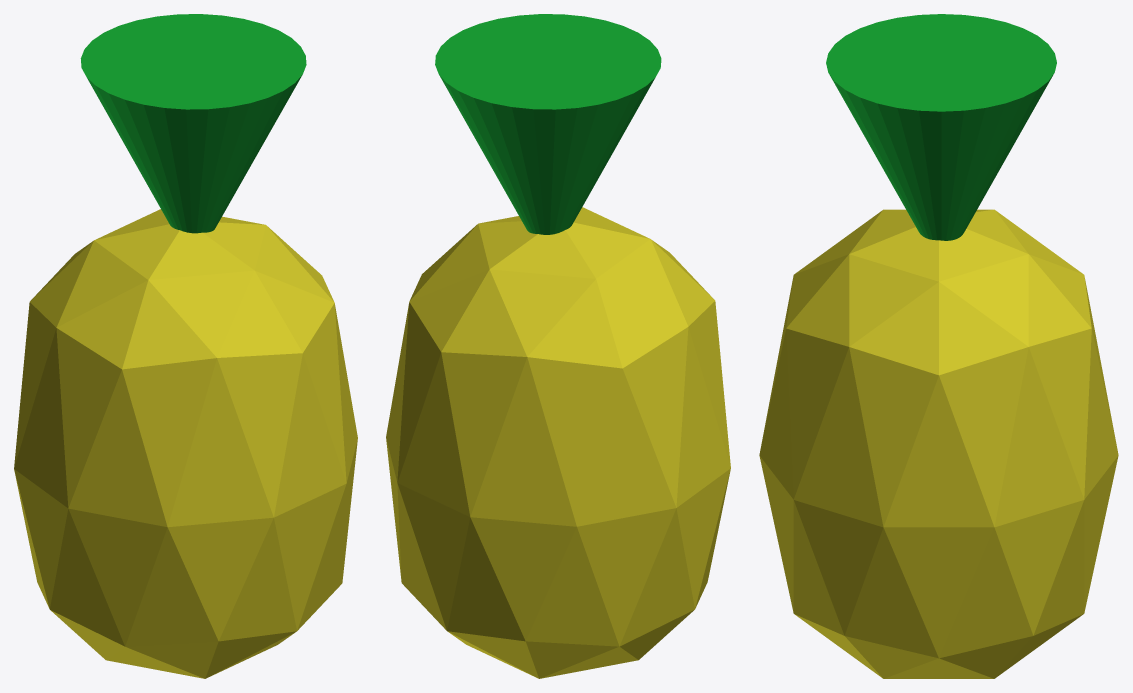
The model's file is piña.fbx.
3 views of the same model, side by side, from view 1: azimuth 30°, elevation 25°; view 2: azimuth 150°, elevation 25°; view 3: azimuth 270°, elevation 25° (orthographic). The views are drawn at different scales.
Parts seen in each view (by area): view 1: Icosphere, Cone; view 2: Icosphere, Cone; view 3: Icosphere, Cone.
Boxes of the visible parts, left/top/right/bottom form: Icosphere: left=14, top=209, right=357, bottom=678; Cone: left=80, top=14, right=306, bottom=233; Icosphere: left=386, top=207, right=730, bottom=678; Cone: left=435, top=14, right=661, bottom=234; Icosphere: left=759, top=209, right=1118, bottom=678; Cone: left=826, top=14, right=1056, bottom=240.
Bounding box in the file's own units: 38.04 × 75.28 × 40.
